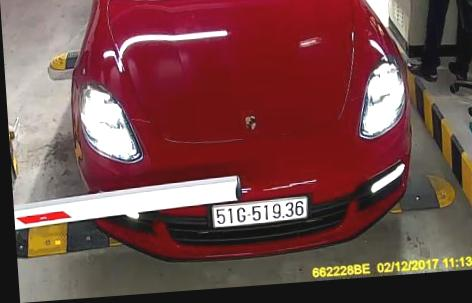License_Plate: (208, 193, 312, 228)
